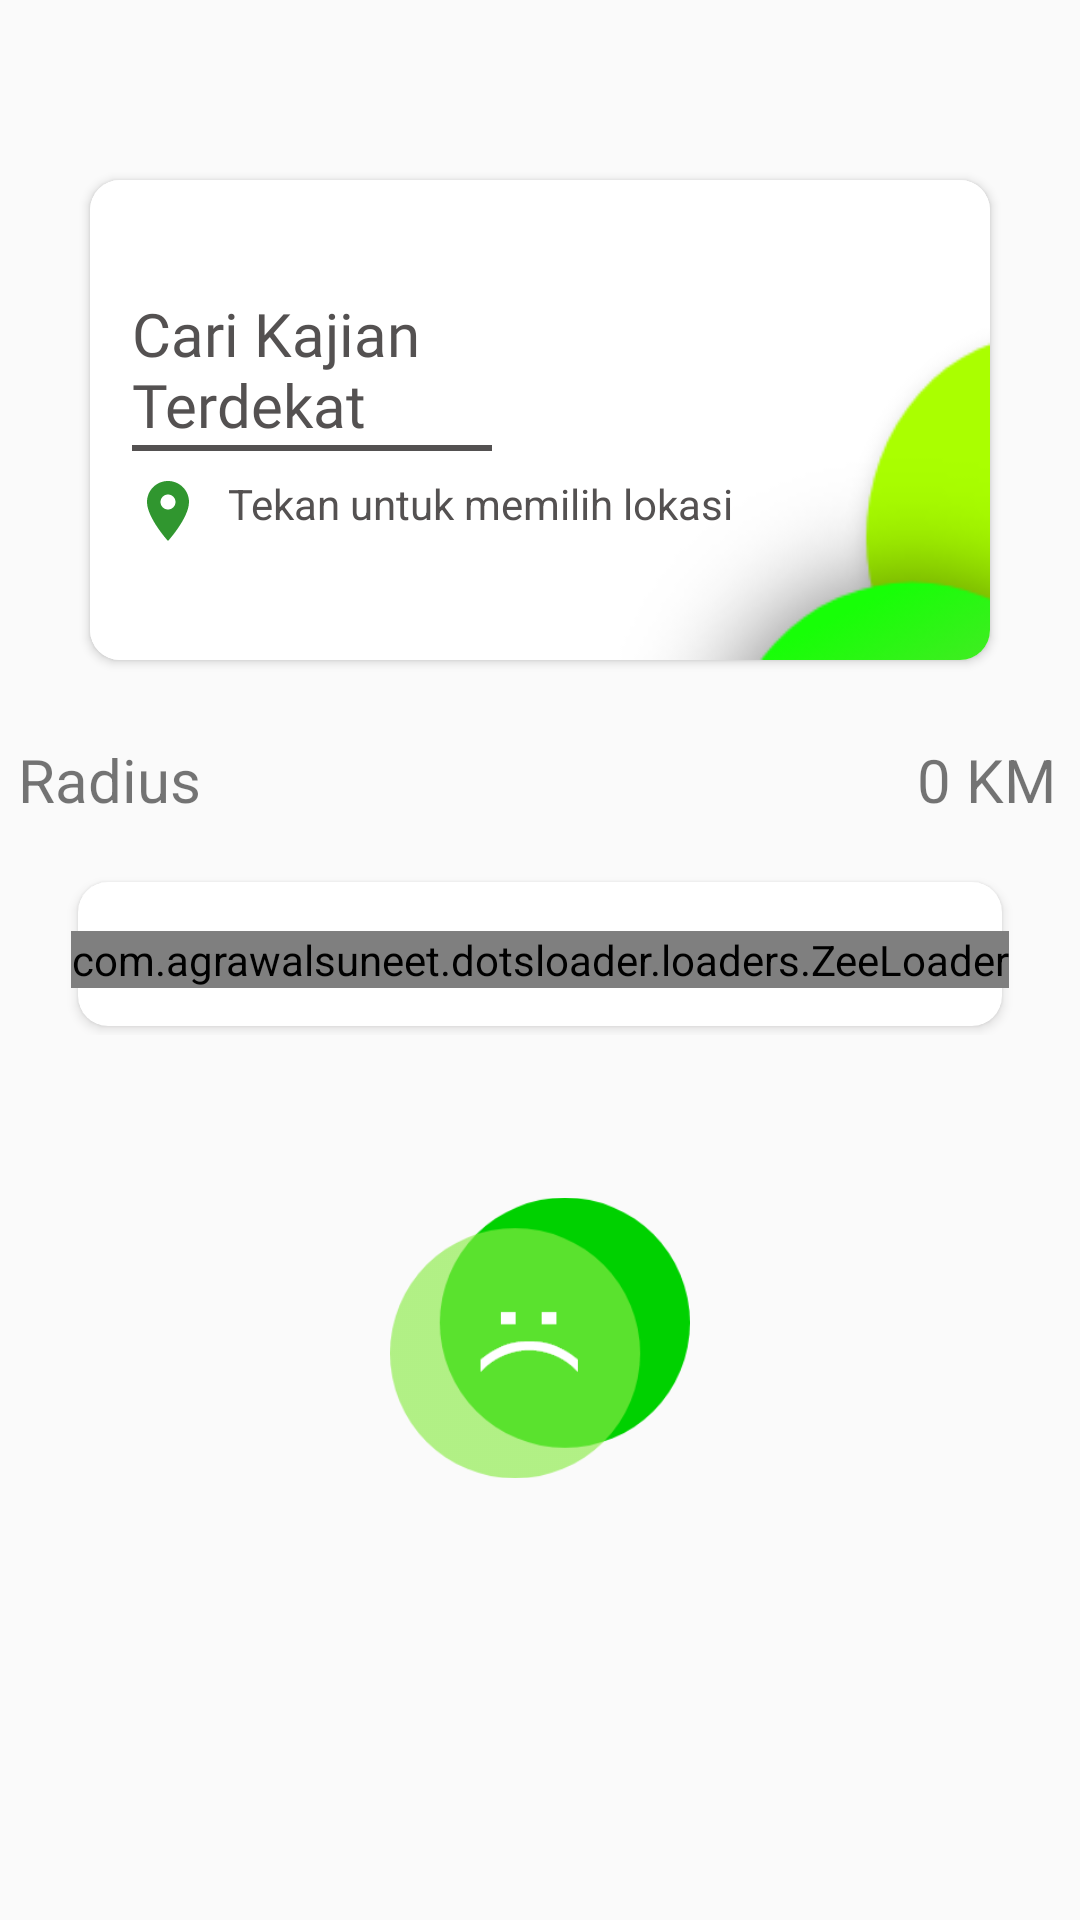

Named icons in this screenshot (1080px×1920px) and their bounding boxes, [x1=x1, y1=y1, x2=x2, y2=y2]:
location: [x1=147, y1=481, x2=189, y2=541]
onfail: [x1=390, y1=1198, x2=690, y2=1478]
